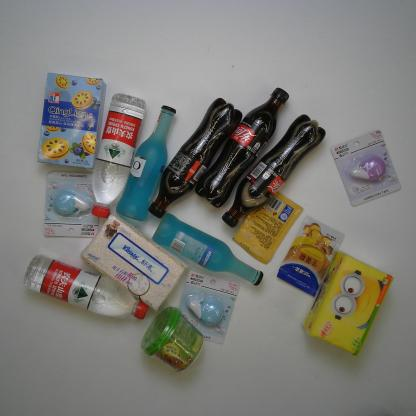Alcohol: (151, 211, 264, 287), (115, 105, 177, 222)
Dessert: (36, 71, 107, 170)
Drink: (221, 113, 326, 229), (194, 86, 290, 209), (148, 97, 243, 220), (22, 253, 149, 321), (90, 92, 146, 219)
Instant Drink: (140, 306, 205, 372)
Seasoner: (276, 214, 346, 298), (232, 192, 304, 266)
Stationery: (330, 130, 402, 207), (178, 270, 240, 344), (43, 170, 101, 238)
Tissue: (79, 212, 189, 313), (300, 248, 394, 358)
